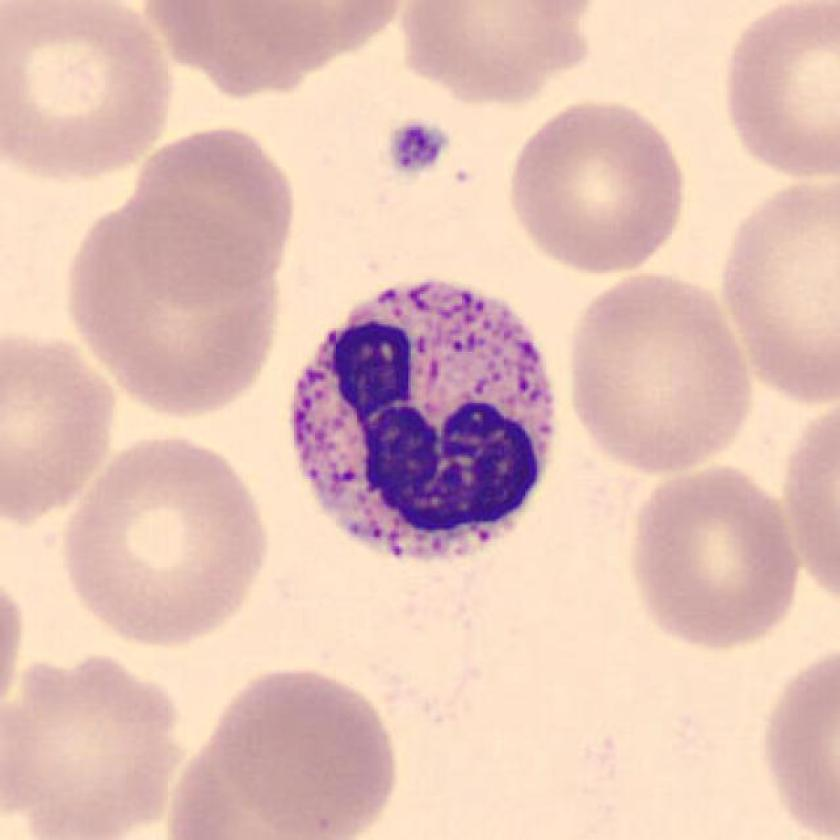neutrophil: (293, 282, 558, 560)
